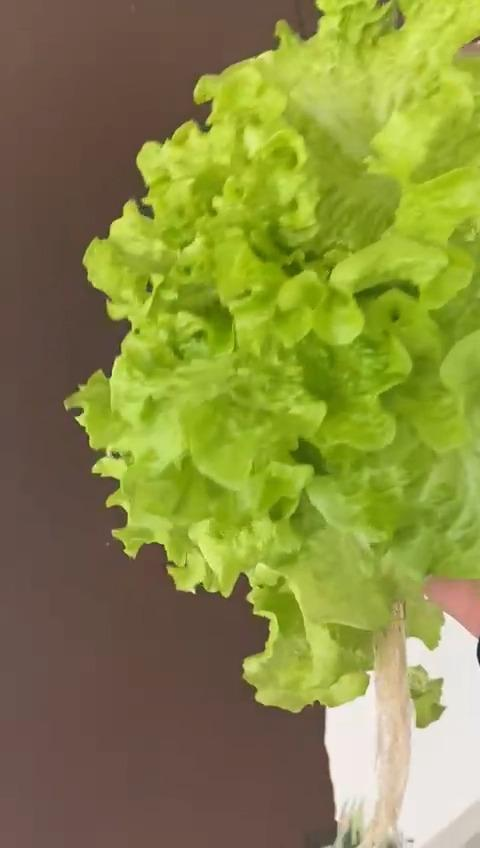Healthy Lettuce: (63, 0, 480, 729)
